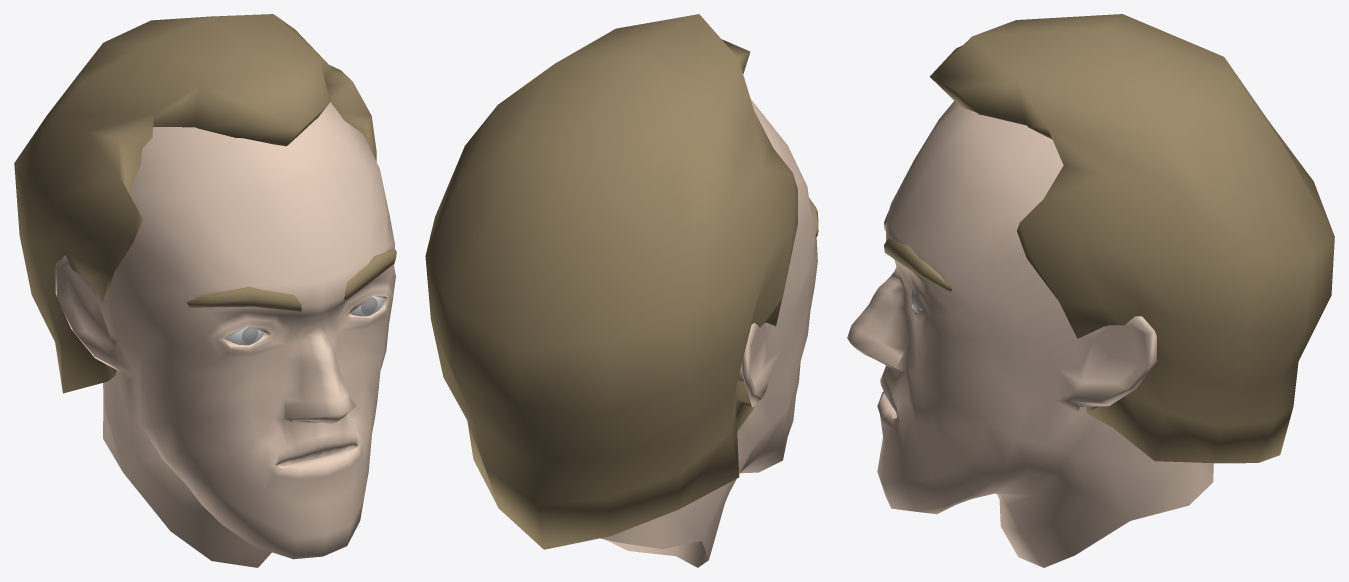
Rendered from MAHEED.fbx.
3 views of the same model, side by side, from view 1: azimuth 30°, elevation 25°; view 2: azimuth 150°, elevation 25°; view 3: azimuth 270°, elevation 25° (orthographic). The views are drawn at different scales.
Parts seen in each view (by area): view 1: EthanHead, Hair, LBrow, RBrow; view 2: Hair, EthanHead; view 3: Hair, EthanHead, RBrow.
Boxes of the visible parts, x1,y1,x2,y2 form: EthanHead: (55,102,395,567); Hair: (14,14,376,393); LBrow: (187,286,301,311); RBrow: (343,249,396,300); Hair: (425,14,797,549); EthanHead: (600,99,817,567); Hair: (929,14,1334,463); EthanHead: (847,101,1213,567); RBrow: (884,238,952,292).
Bounding box in the file's own units: 5.11 × 8.53 × 7.13.
